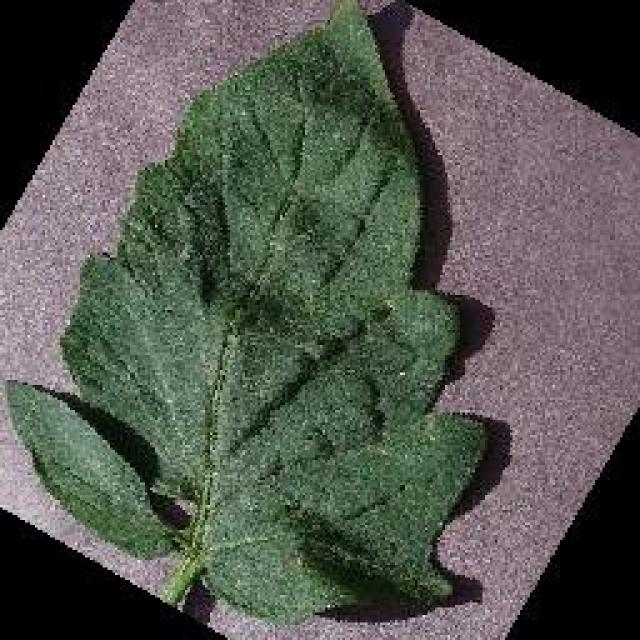Tomato___Target_Spot: (8, 0, 485, 622)
